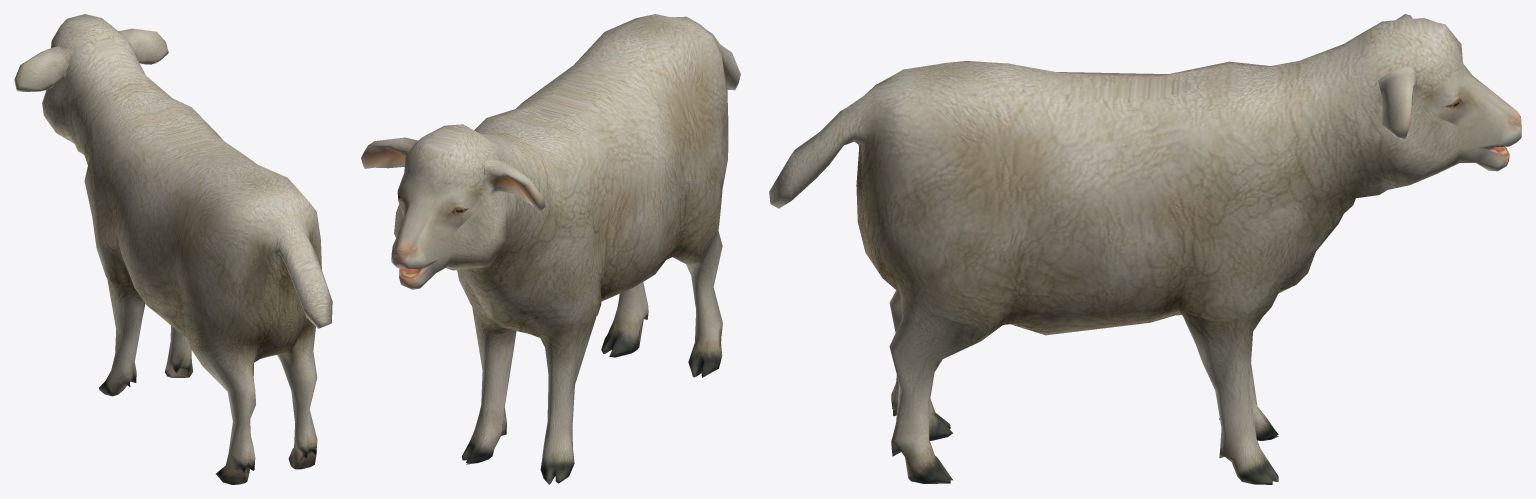
The model's file is sheep_hi.glb.
3 renders of one model, left to right at view 1: azimuth 30°, elevation 25°; view 2: azimuth 150°, elevation 25°; view 3: azimuth 270°, elevation 25°, orthographic. The views are drawn at different scales.
Parts seen in each view (by area): view 1: sheep_hi; view 2: sheep_hi; view 3: sheep_hi.
Part boxes in pixels (x1,y1,x2,y2): sheep_hi: (14,14,332,484); sheep_hi: (361,14,740,484); sheep_hi: (769,14,1521,484).
Bounding box in the file's own units: 0.4694 × 0.9509 × 1.49.
Materials: 1 (1 with a texture image).
